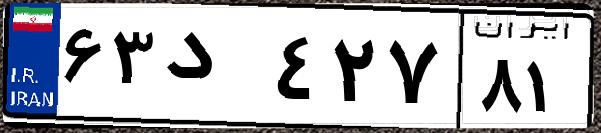1: (525, 38, 570, 115)
2: (330, 28, 385, 110)
3: (110, 28, 158, 98)
4: (270, 28, 330, 110)
6: (57, 26, 110, 100)
7: (385, 28, 445, 110)
8: (475, 38, 525, 113)
د: (158, 20, 270, 120)
